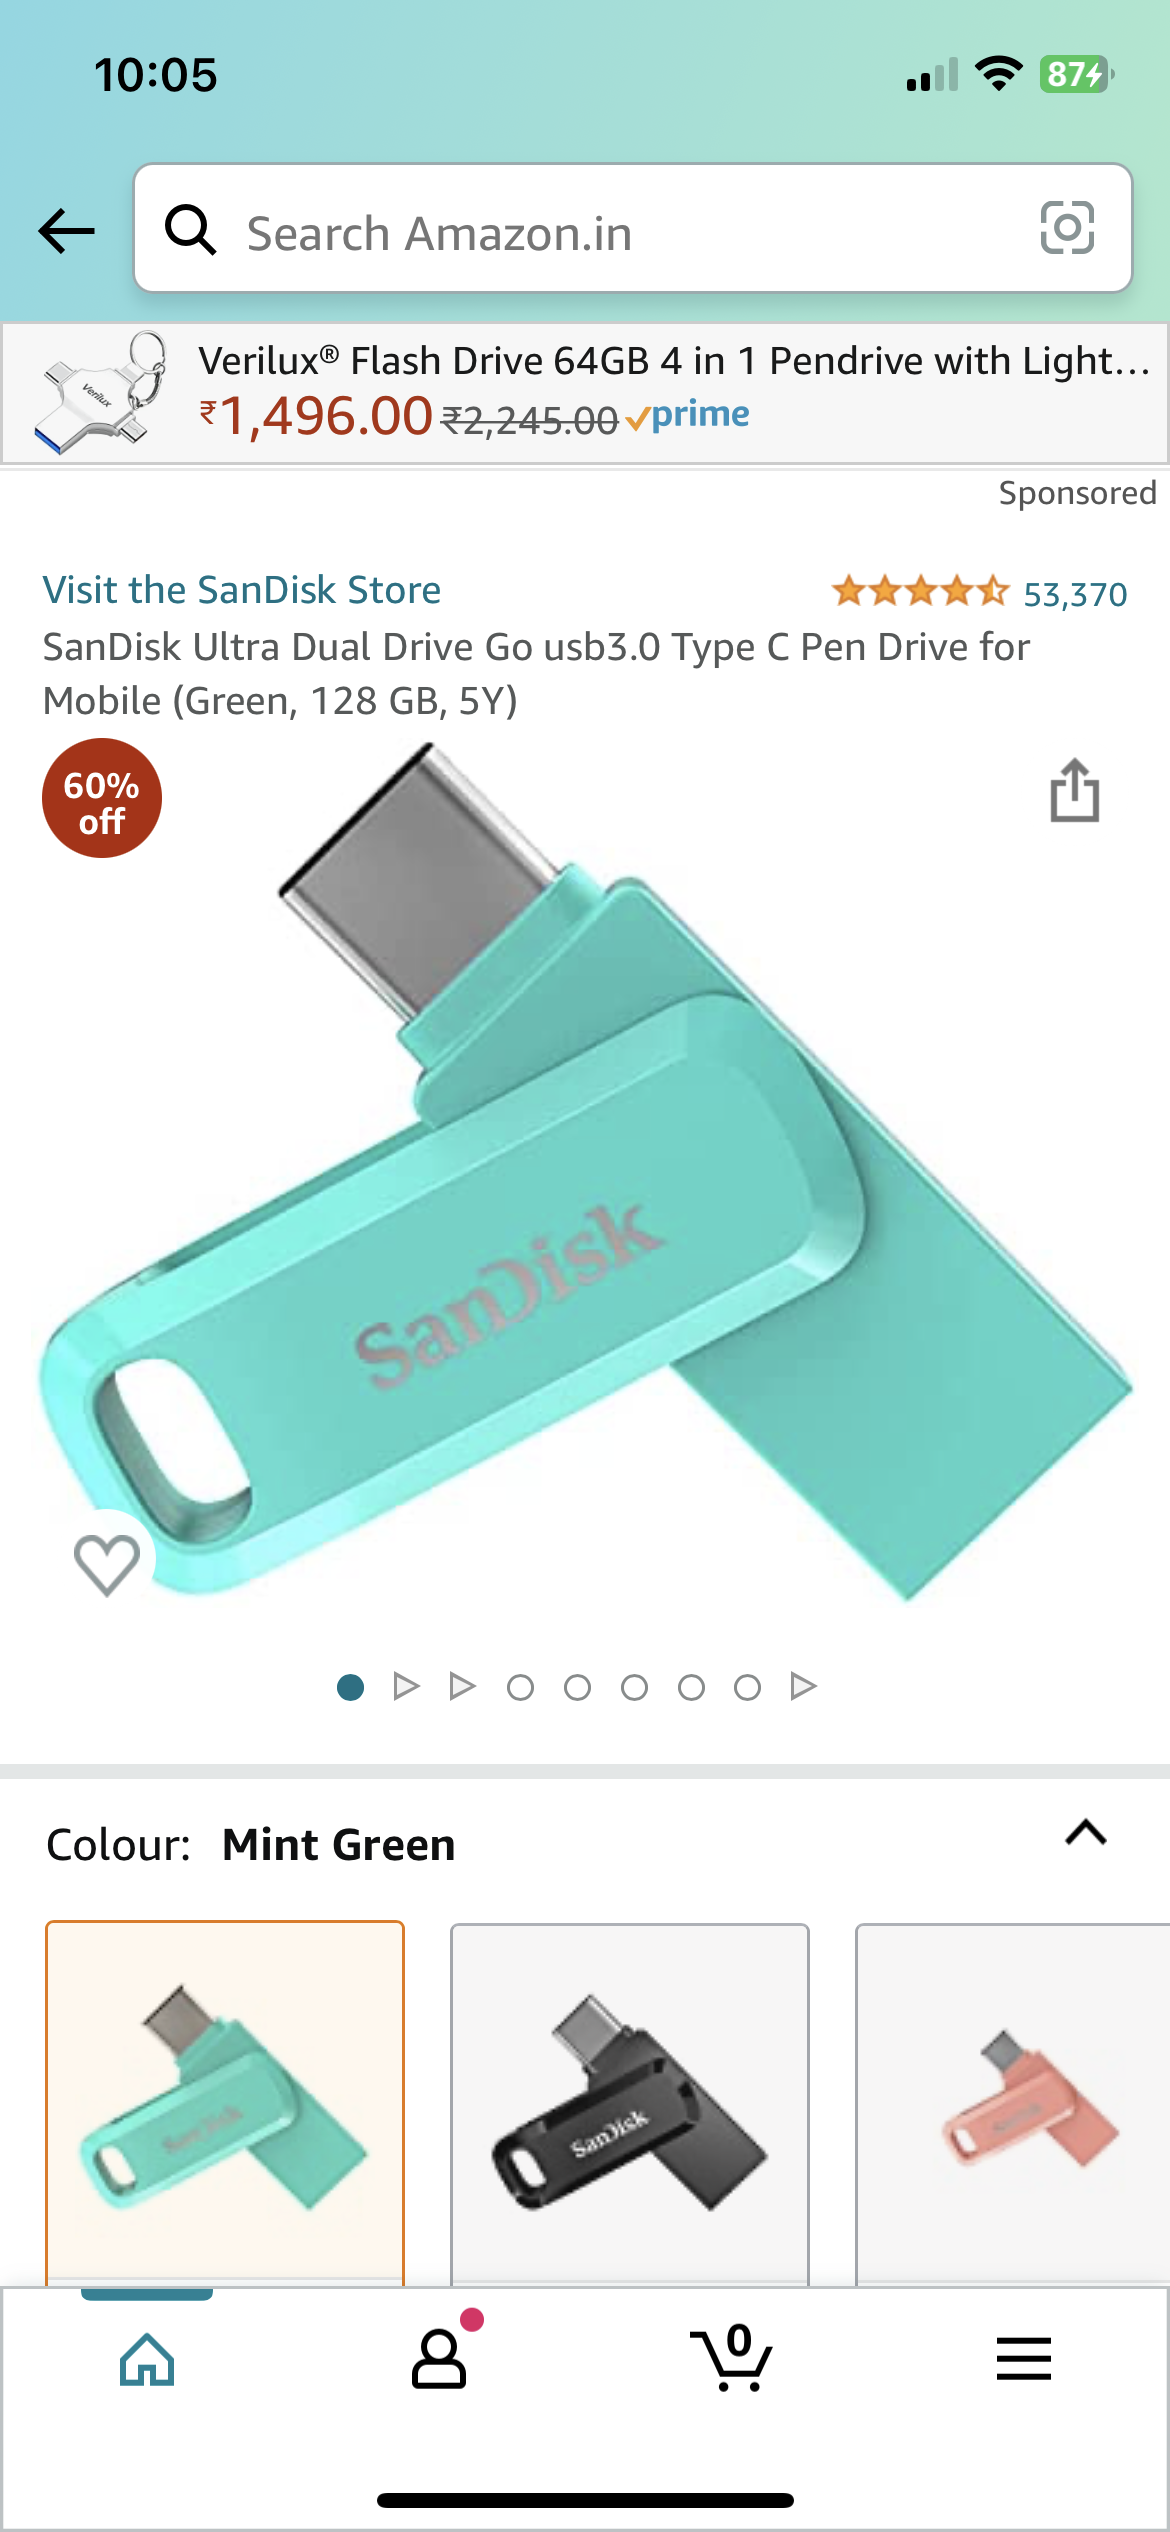PenDrive: (44, 736, 1139, 1615)
